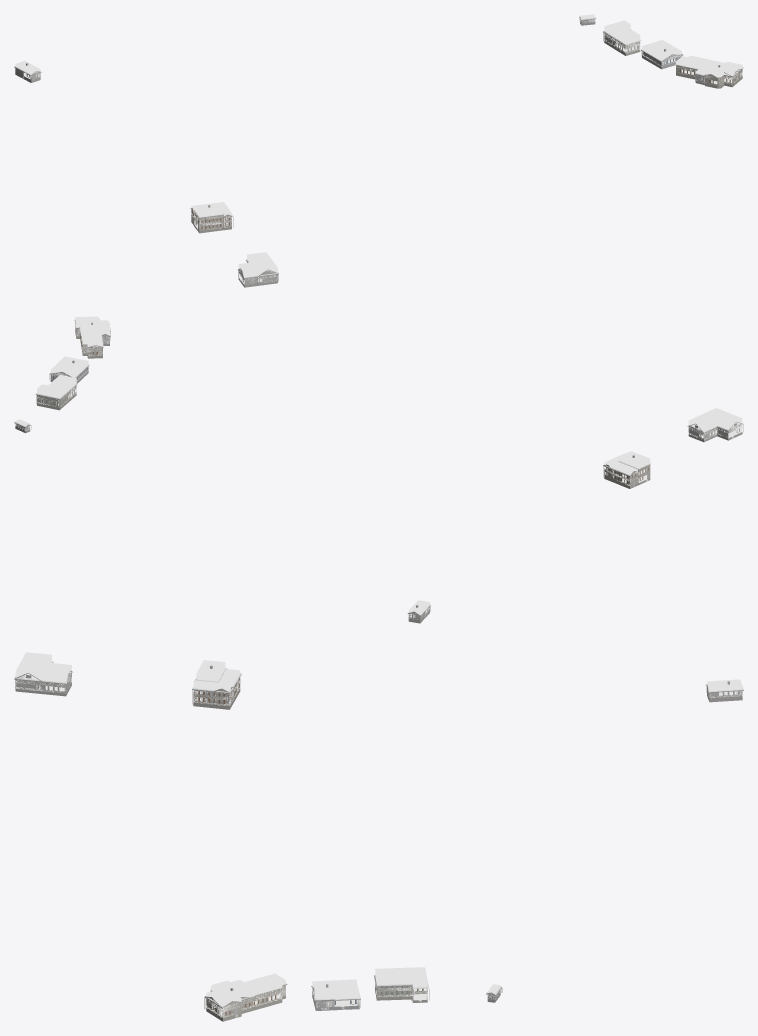
The picture shows the model from 3 angles, top to bottom: view 1: azimuth 30°, elevation 25°; view 2: azimuth 150°, elevation 25°; view 3: azimuth 270°, elevation 25°; orthographic projection. The views are drawn at different scales.
Parts seen in each view (by area): view 1: col, bld; view 2: col, bld; view 3: col, bld.
Boxes of the visible parts, x1,y1,x2,y2 form: col: (15, 14, 742, 284); bld: (14, 16, 743, 287); col: (15, 316, 742, 619); bld: (14, 319, 743, 623); col: (15, 652, 742, 1017); bld: (14, 661, 743, 1021).
Size of the model in its own units: 268 by 13.71 by 223.
